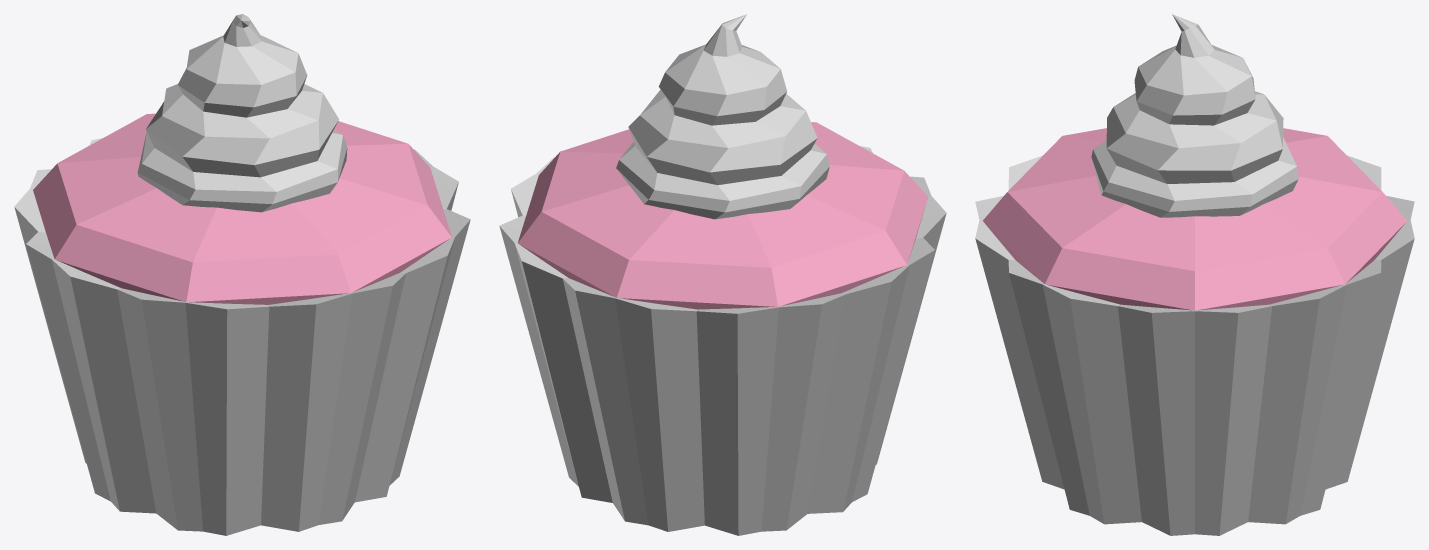
Rendered from Cupcake_01.gltf.
The picture shows the model from 3 angles, left to right: view 1: azimuth 30°, elevation 25°; view 2: azimuth 150°, elevation 25°; view 3: azimuth 270°, elevation 25°; orthographic projection. The views are drawn at different scales.
Visible parts, largest first — view 1: node-0; view 2: node-0; view 3: node-0.
Boxes of the visible parts, bbox=[...] form: node-0: bbox=[14, 14, 470, 535]; node-0: bbox=[499, 14, 946, 535]; node-0: bbox=[975, 14, 1414, 535].
Size of the model in its own units: 10.46 by 11.85 by 10.46.
